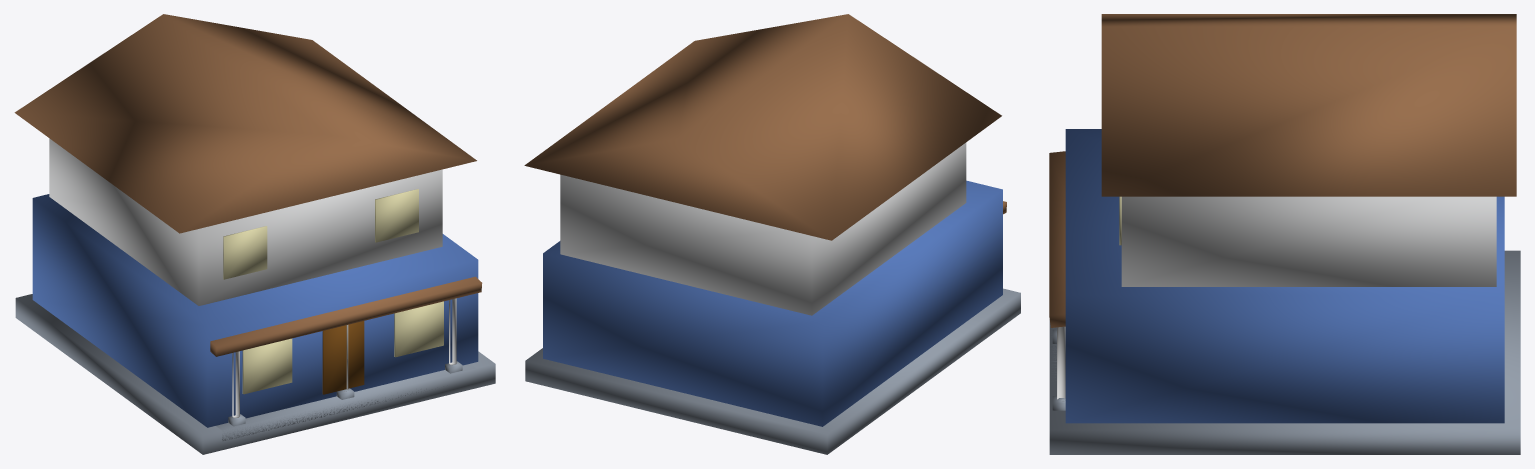
Rendered from craftsman-house.glb.
3 renders of one model, left to right at view 1: azimuth 30°, elevation 25°; view 2: azimuth 150°, elevation 25°; view 3: azimuth 270°, elevation 25°, orthographic. The views are drawn at different scales.
Parts seen in each view (by area): view 1: world; view 2: world; view 3: world.
Part boxes in pixels (x1,y1,x2,y2): world: (14,14,495,454); world: (524,14,1020,454); world: (1049,14,1520,454).
Bounding box in the file's own units: 11 × 9.5 × 12.
